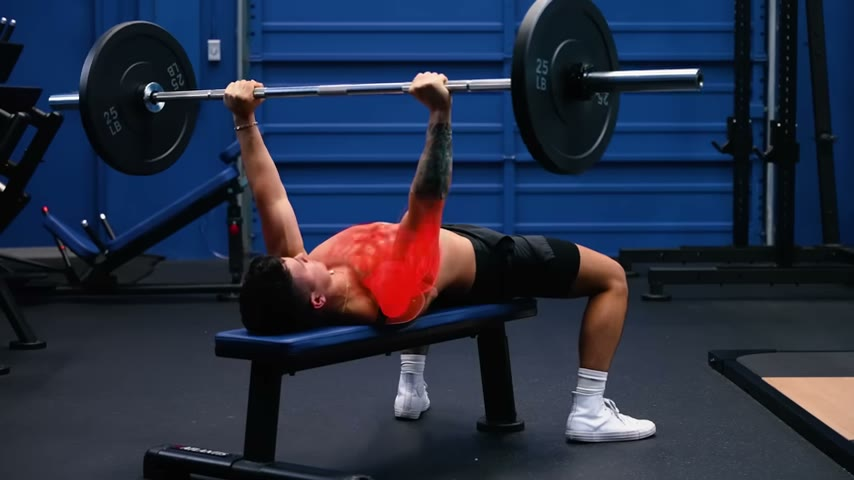barbell_plate_side: (618, 0, 720, 202)
